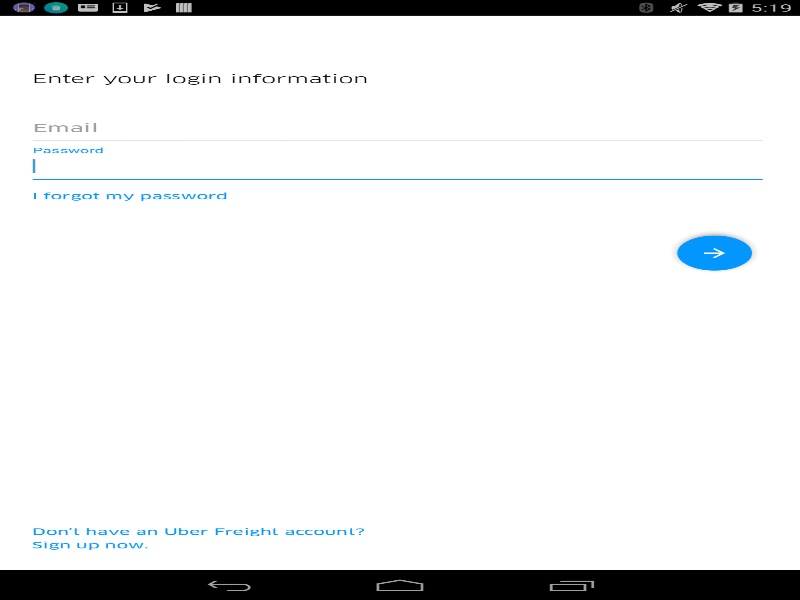Button: (661, 224, 768, 281)
Input: (27, 115, 768, 146), (27, 153, 768, 184)
